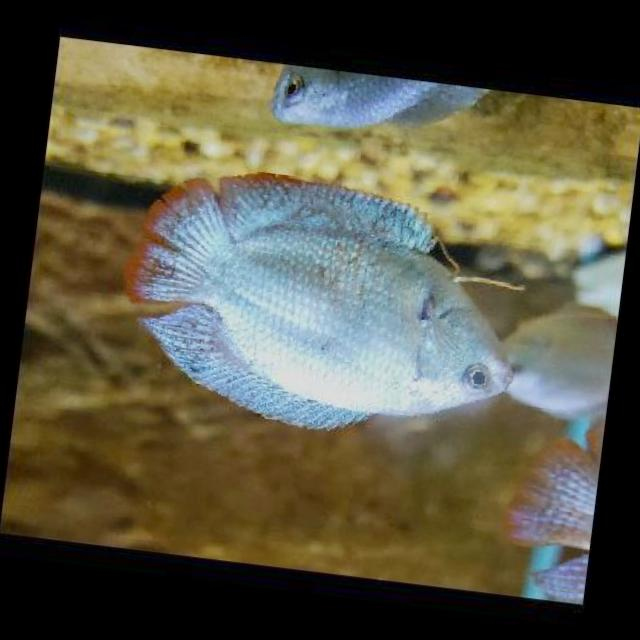Gourami: (120, 164, 530, 452)
